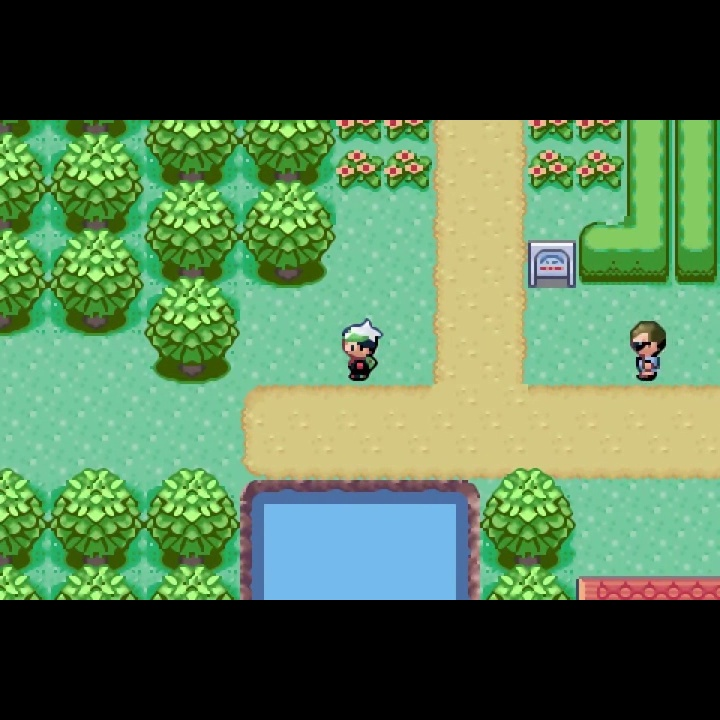npc: (339, 317, 385, 384), (626, 320, 668, 387)
wall: (49, 227, 144, 339), (143, 276, 241, 384), (240, 178, 335, 287), (47, 467, 145, 568), (142, 179, 240, 279), (144, 468, 239, 567), (481, 467, 576, 564), (48, 136, 146, 227), (240, 120, 337, 181), (145, 121, 241, 179), (1, 226, 49, 338), (1, 466, 47, 568), (1, 135, 48, 229), (48, 564, 146, 599), (482, 563, 574, 600), (144, 565, 240, 600), (1, 564, 47, 600), (48, 121, 144, 138), (1, 121, 48, 137)
